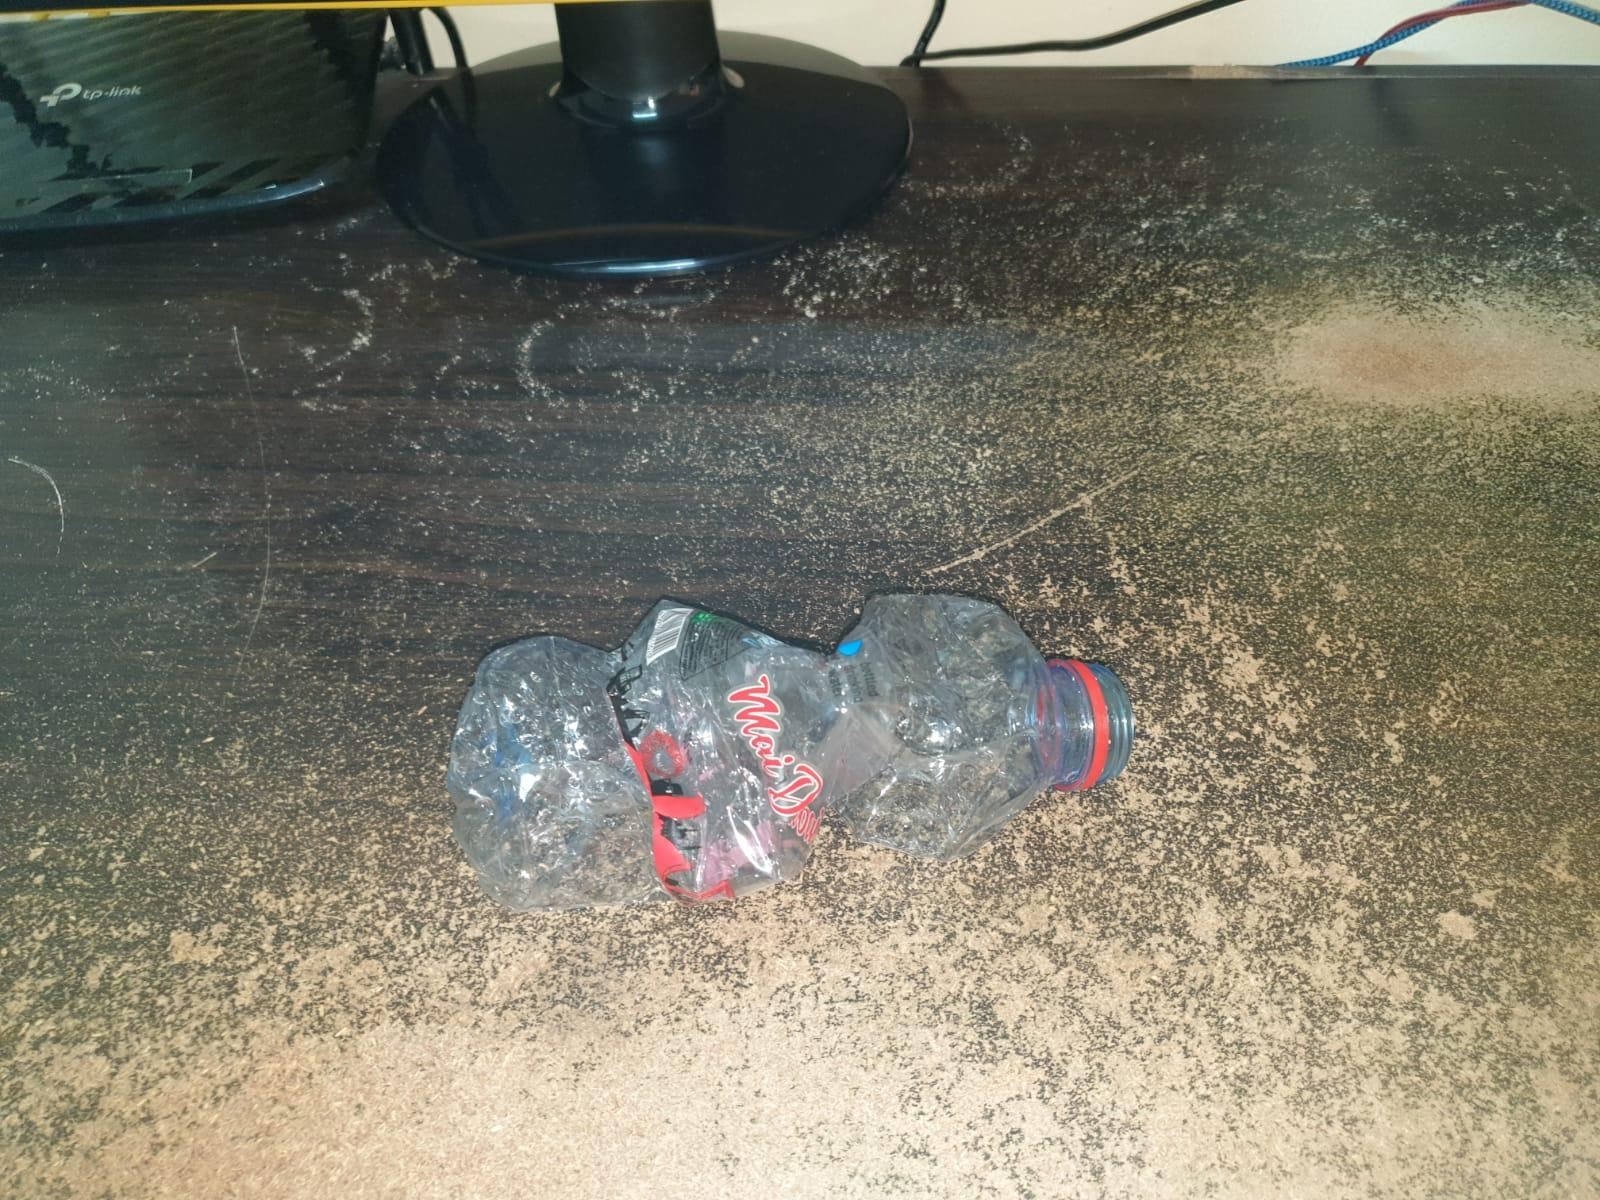bottle: (414, 581, 1146, 935)
